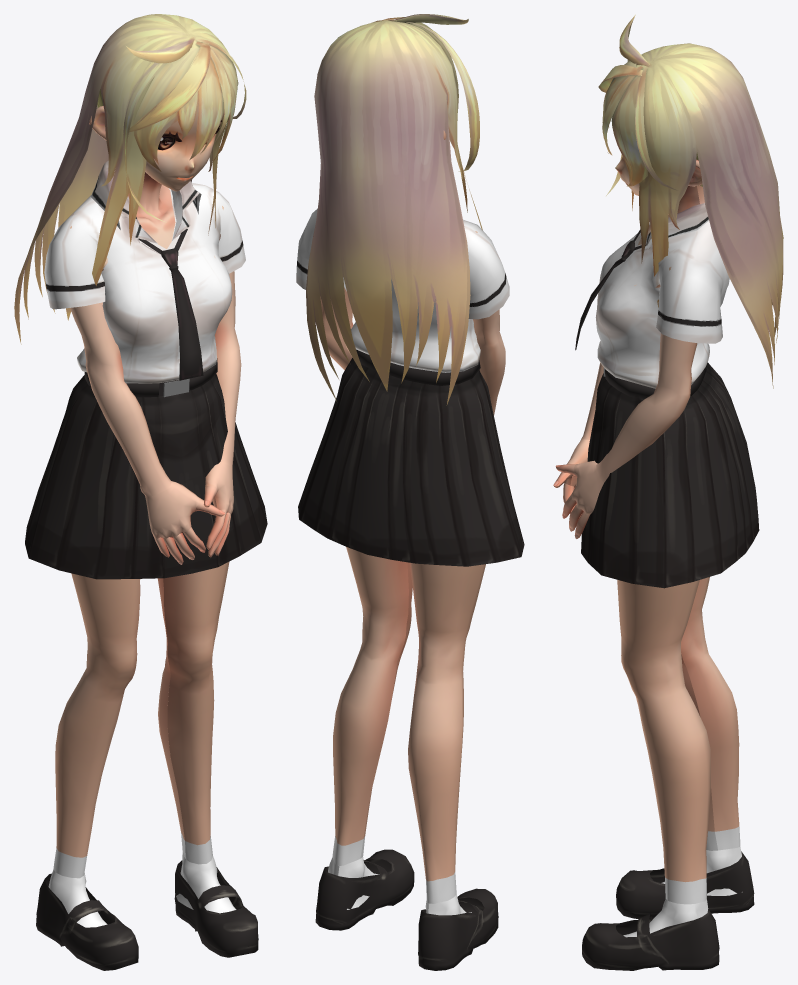
The model's file is fanart_student_girl_mr.glb.
The picture shows the model from 3 angles, left to right: view 1: azimuth 30°, elevation 25°; view 2: azimuth 150°, elevation 25°; view 3: azimuth 270°, elevation 25°; orthographic projection.
Visible parts, largest first — view 1: Object_25, Object_7, Object_23, Object_13, Object_17; view 2: Object_25, Object_23, Object_7, Object_13; view 3: Object_25, Object_7, Object_23, Object_13, Object_17.
Boxes of the visible parts, x1=… form: Object_25: x1=25, y1=160, x2=267, y2=970; Object_7: x1=55, y1=172, x2=241, y2=857; Object_23: x1=14, y1=14, x2=246, y2=344; Object_13: x1=48, y1=832, x2=236, y2=927; Object_17: x1=89, y1=102, x2=224, y2=191; Object_25: x1=296, y1=209, x2=524, y2=970; Object_23: x1=306, y1=14, x2=482, y2=405; Object_7: x1=320, y1=231, x2=505, y2=881; Object_13: x1=328, y1=836, x2=471, y2=915; Object_25: x1=575, y1=203, x2=759, y2=970; Object_7: x1=553, y1=185, x2=739, y2=882; Object_23: x1=598, y1=14, x2=783, y2=388; Object_13: x1=623, y1=826, x2=742, y2=937; Object_17: x1=615, y1=156, x2=702, y2=195.
Size of what is drawn, in the model's own units: 0.4681 by 1.79 by 0.4142.
10 materials, 8 textured.
